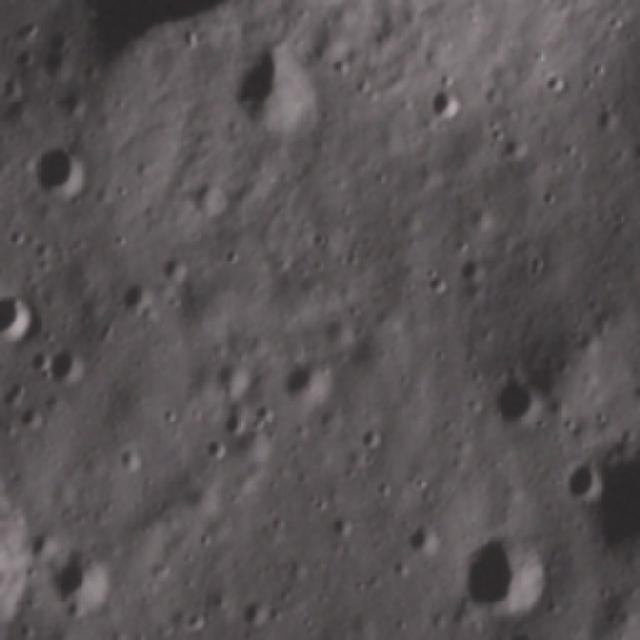crater: (228, 39, 332, 139), (454, 527, 554, 619), (40, 550, 117, 622), (27, 141, 96, 199), (488, 368, 548, 428), (278, 358, 336, 408), (0, 284, 43, 348), (558, 456, 610, 506), (40, 343, 89, 389), (403, 519, 440, 561), (12, 400, 52, 438), (424, 86, 465, 122), (237, 592, 274, 630), (456, 252, 490, 285), (117, 281, 151, 314), (355, 421, 388, 454), (538, 68, 572, 97), (158, 252, 190, 282), (425, 272, 453, 302), (331, 509, 355, 540), (501, 629, 553, 640), (172, 638, 216, 640)
